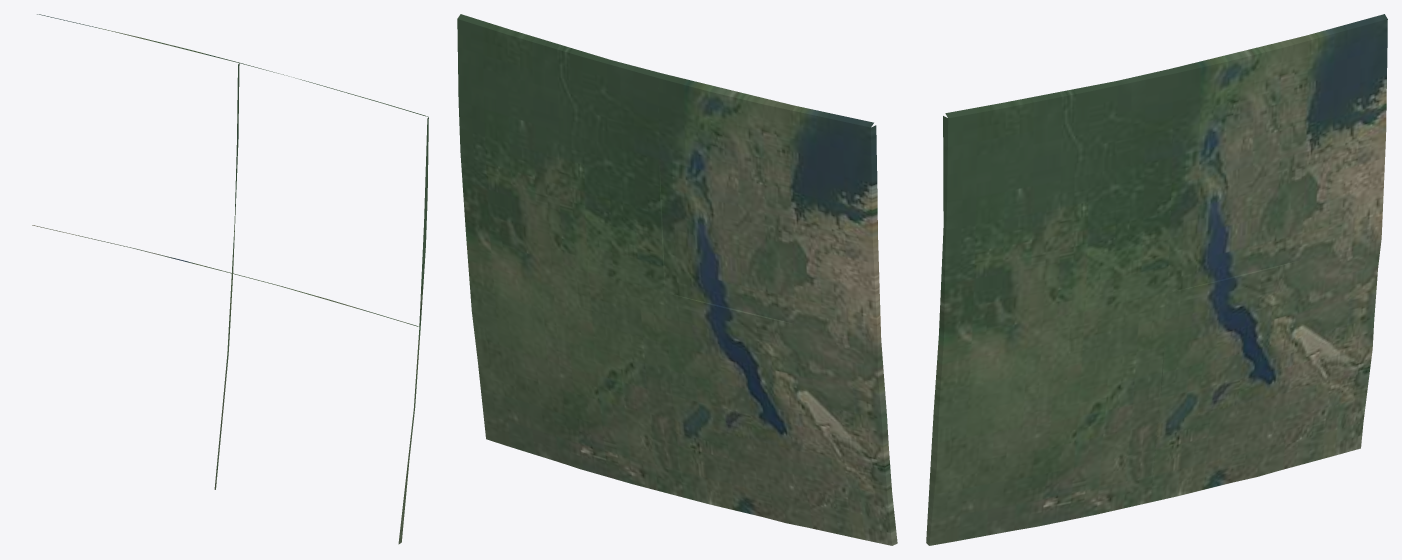
3 views of the same model, side by side, from view 1: azimuth 30°, elevation 25°; view 2: azimuth 210°, elevation 25°; view 3: azimuth 270°, elevation 25° (orthographic). The views are drawn at different scales.
Size of the model in its own units: 712188 by 1253376 by 1163184.
Materials: 1 (1 with a texture image).
